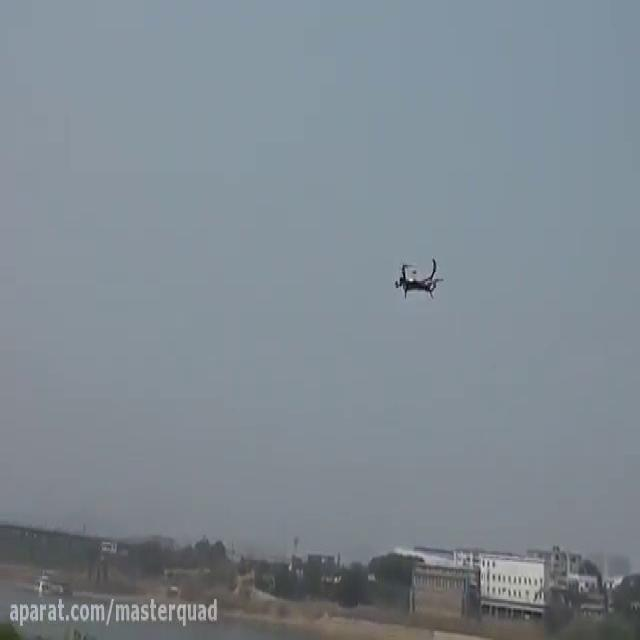drone: (392, 252, 445, 302)
